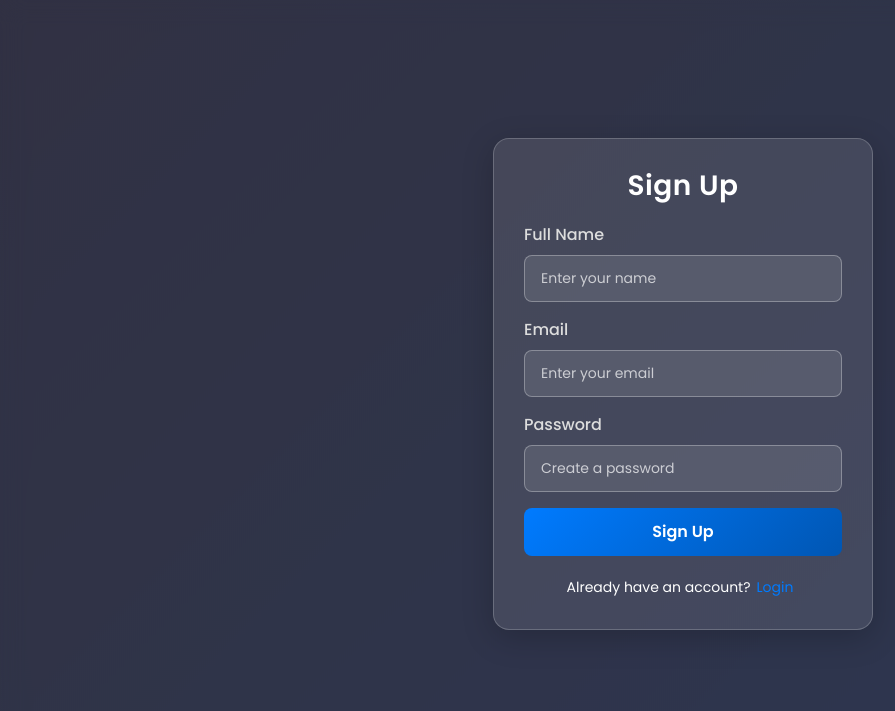
Test: Signup Component › sends email verification
The width and height of the screenshot is (895, 711).
In the field with placeholder "Enter your name": (683, 278) left=524, top=255, right=842, bottom=302, type "John Doe"
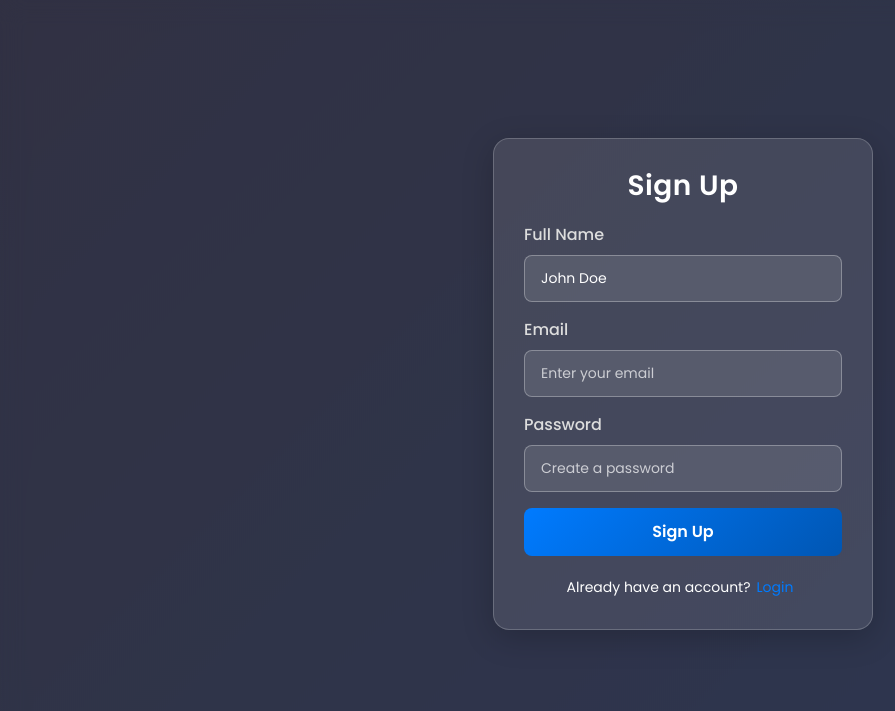
In the field with placeholder "Enter your email": (683, 373) left=524, top=350, right=842, bottom=397, type "test@example.com"
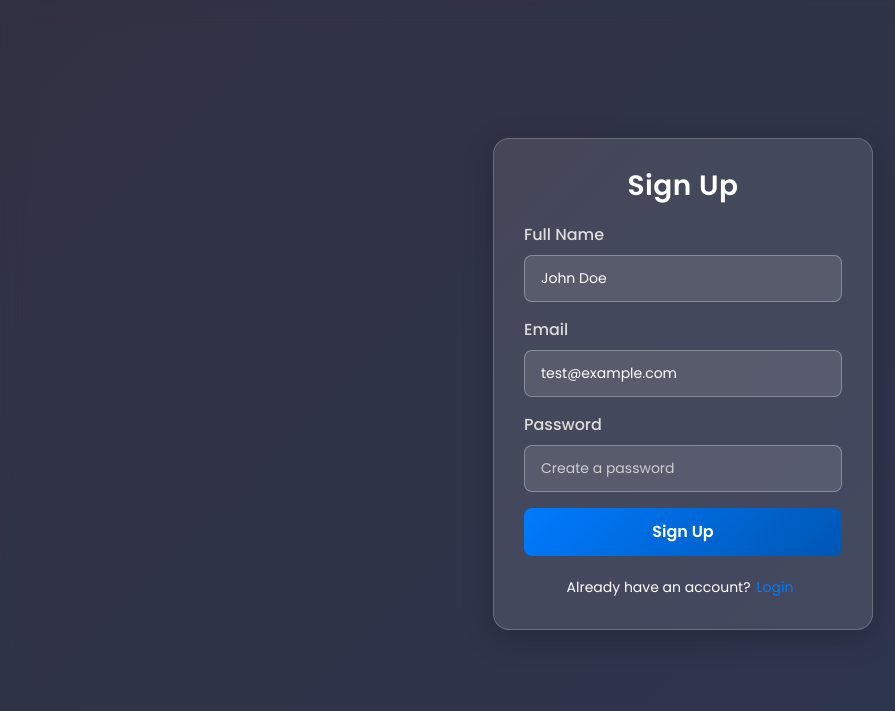
In the password field with placeholder "Create a password": (683, 468) left=524, top=445, right=842, bottom=492, type "password123"
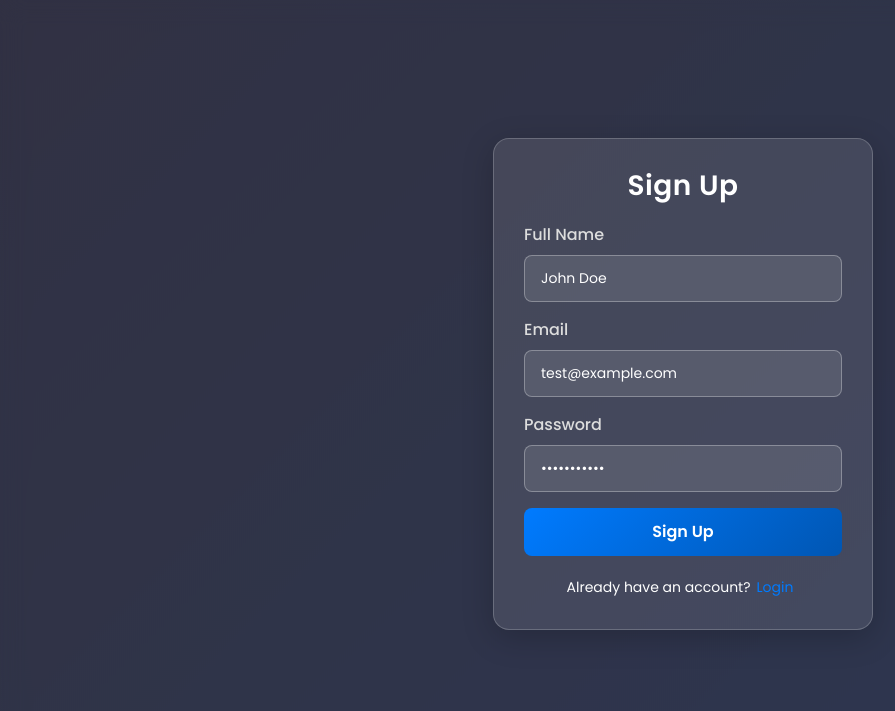
Click the button "Sign Up": (683, 532) left=524, top=508, right=842, bottom=556
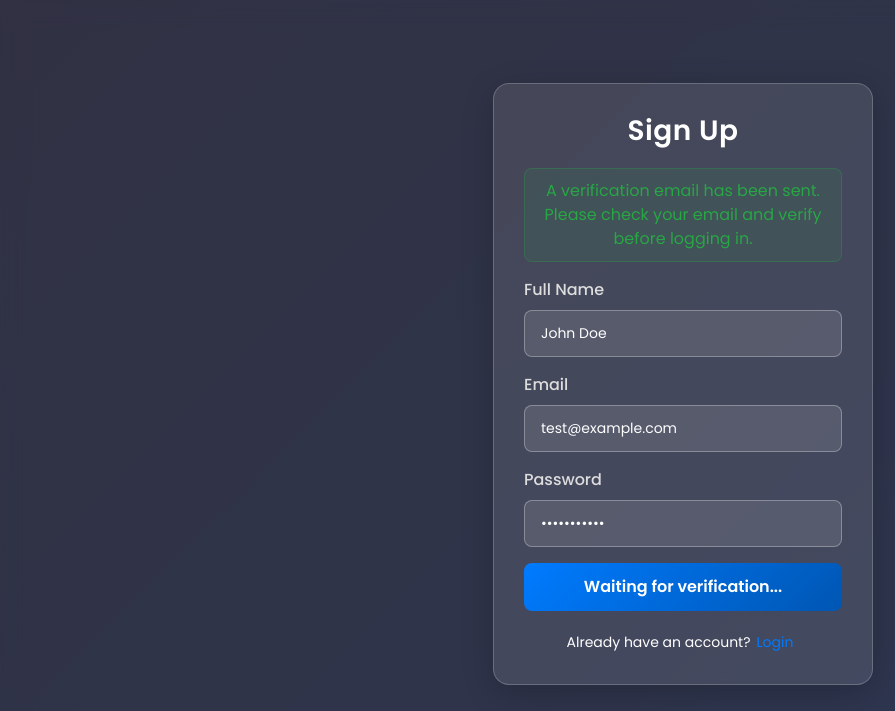
Now the text "A verification email has been sent" is shown, box left=544, top=179, right=821, bottom=250
